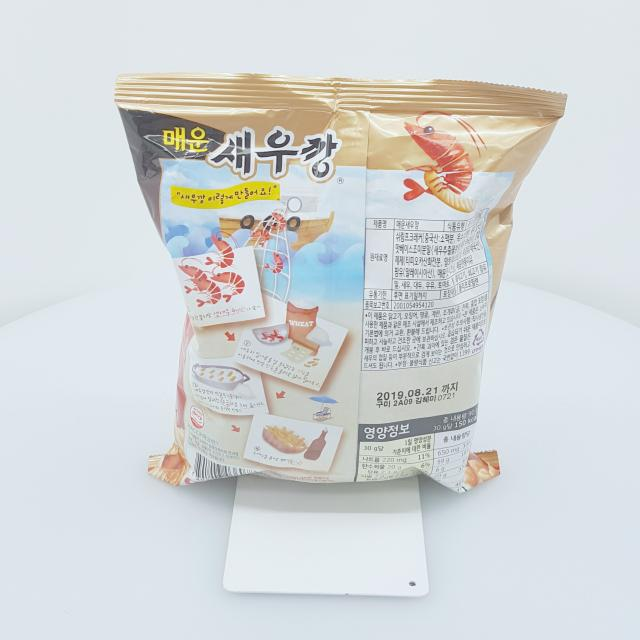-90G: (115, 72, 569, 495)
